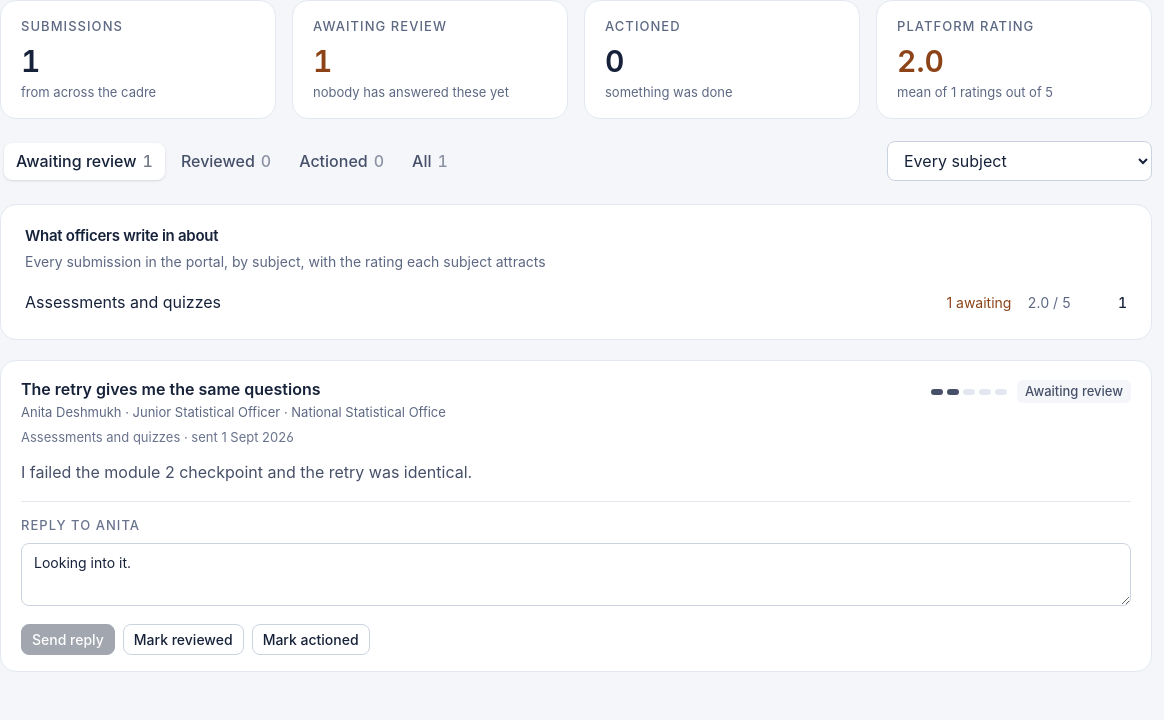
AdminFeedback › will not send an empty reply, or one that has not been changed
Expected: the button "Send reply" is disabled, [21, 624, 115, 655]
Type " Fixed now." into the text box labelled "Reply to Anita" at (576, 575), box [21, 543, 1131, 606]
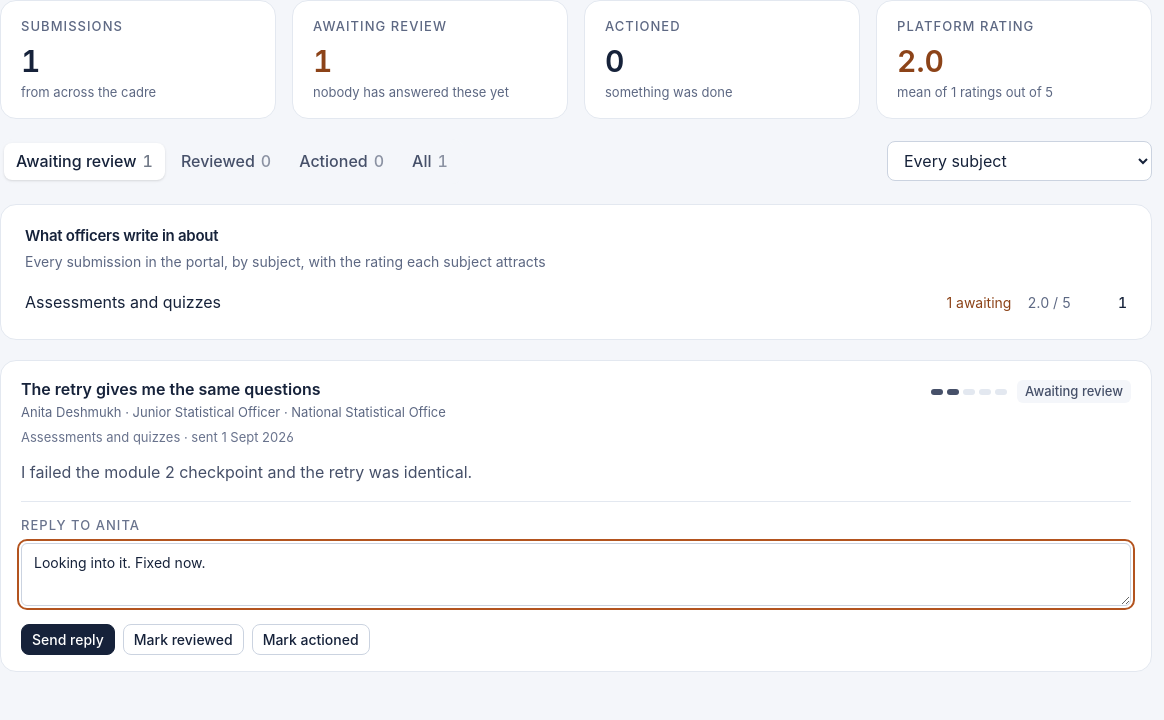
Result: the button "Send reply" is enabled at [21, 624, 115, 655]
